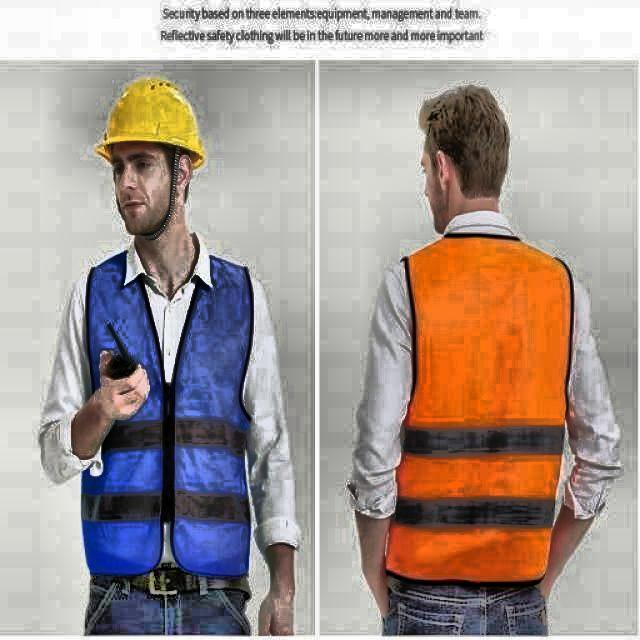safety_jacket: (80, 256, 254, 584), (400, 251, 562, 579)
